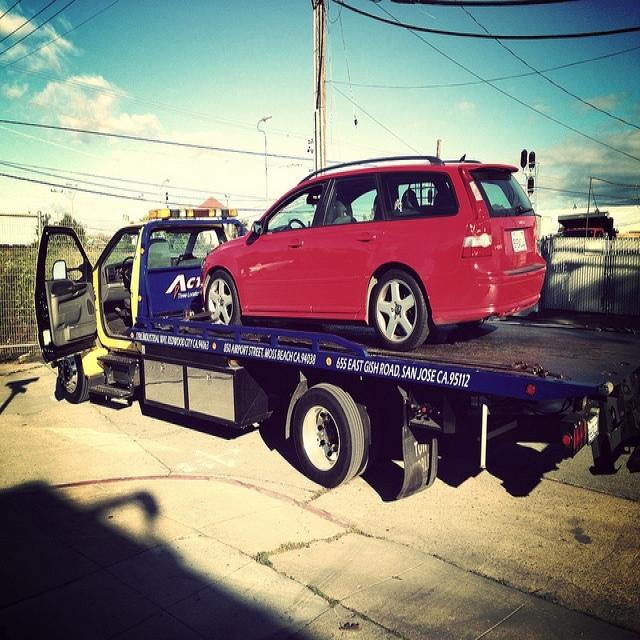car: (200, 154, 545, 350)
truck: (34, 201, 635, 504)
